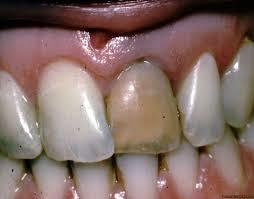Calculus: (112, 55, 183, 160)
